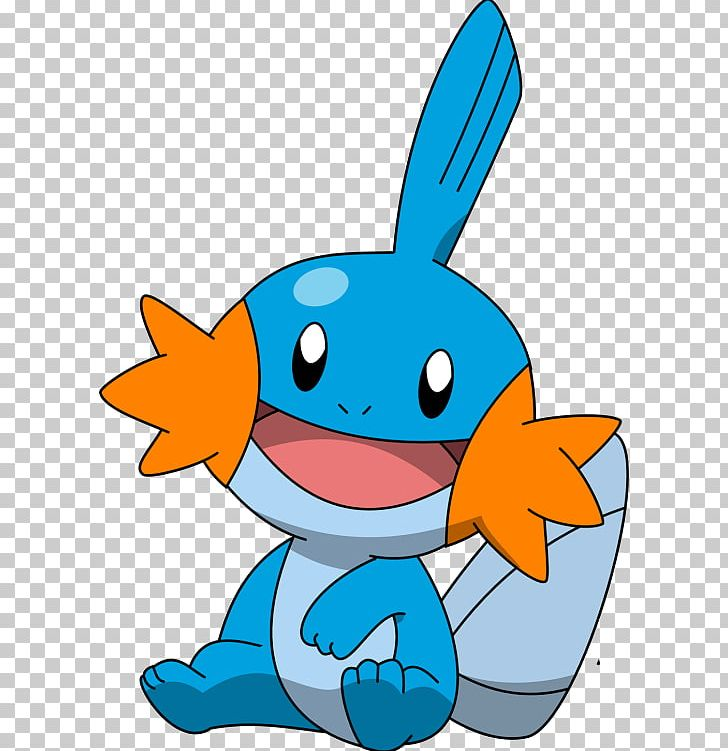mudkip: (96, 1, 631, 744)
